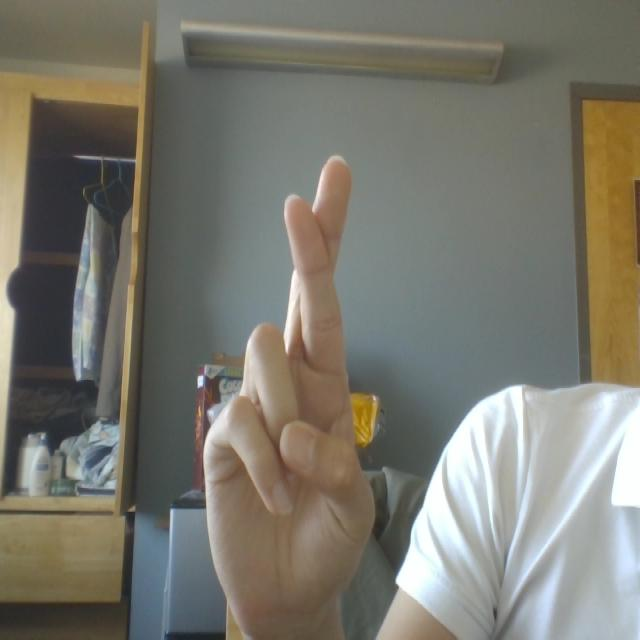R: (178, 135, 401, 640)
